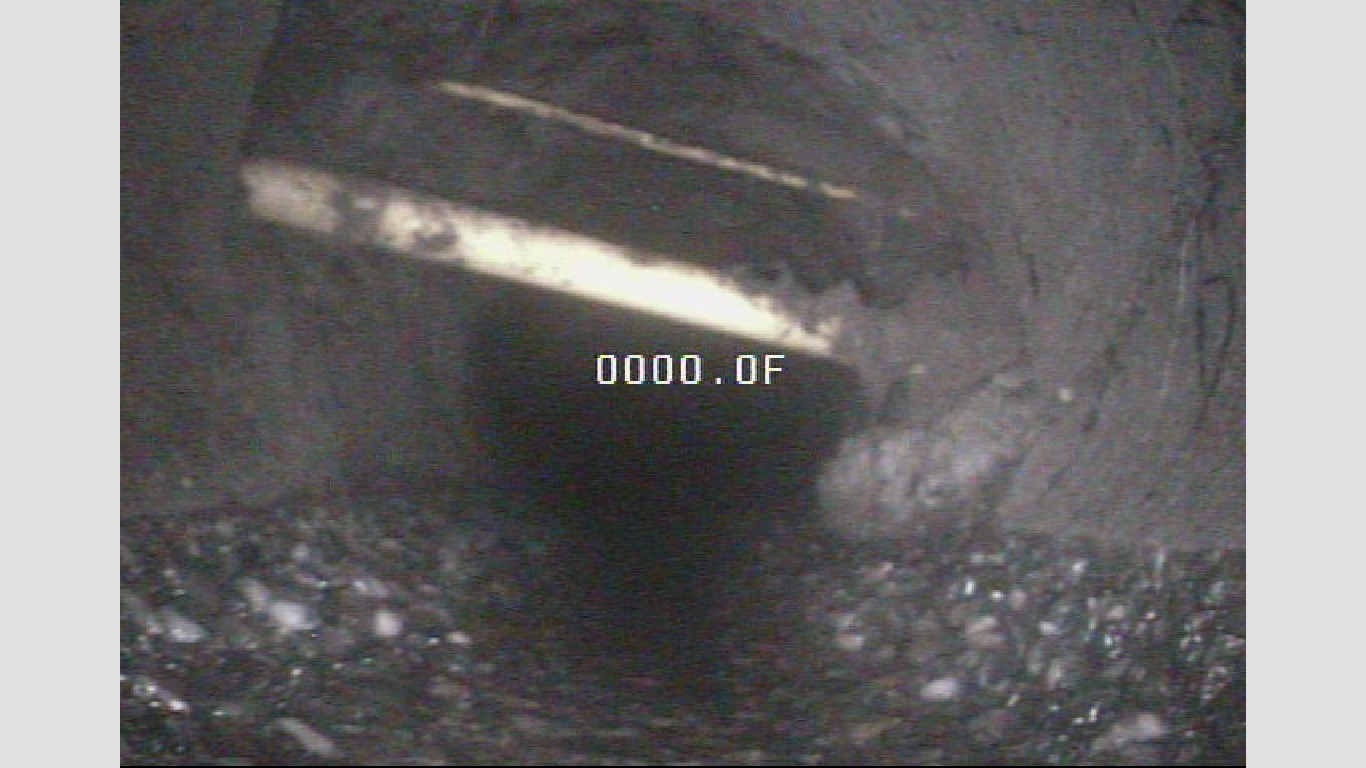cb: (182, 130, 906, 375), (325, 26, 995, 236)
